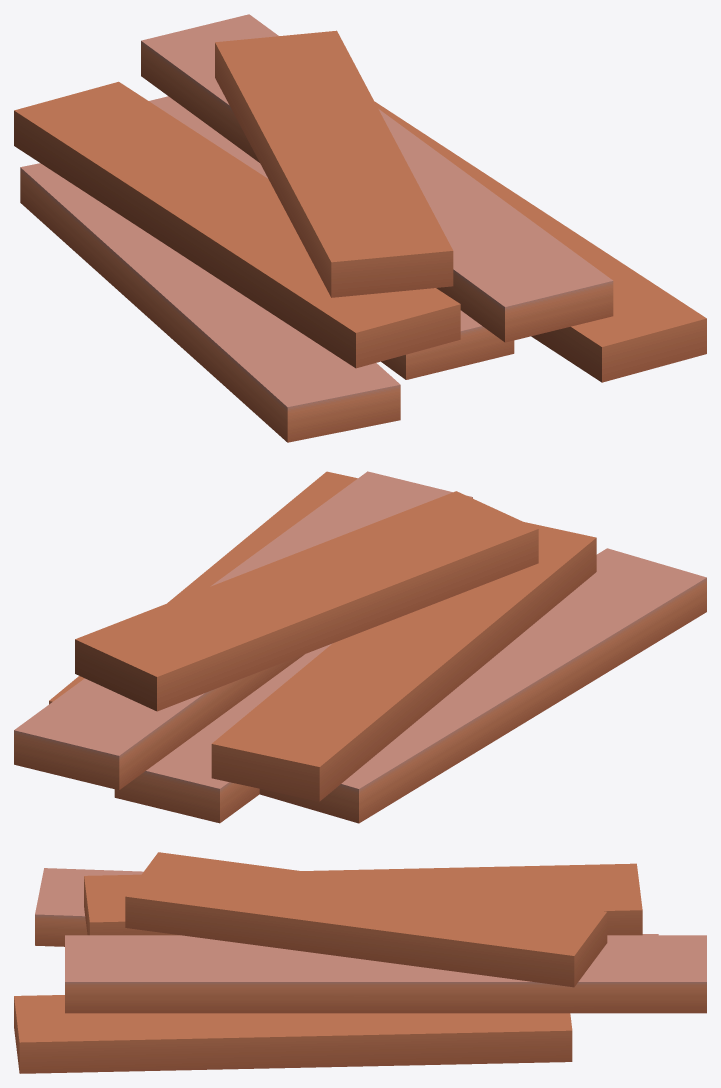
Rendered from resource-planks.glb.
3 renders of one model, top to bottom at view 1: azimuth 30°, elevation 25°; view 2: azimuth 150°, elevation 25°; view 3: azimuth 270°, elevation 25°, orthographic. The views are drawn at different scales.
Visible parts, largest first — view 1: resource-planks; view 2: resource-planks; view 3: resource-planks.
Part boxes in pixels (box(x1,y1,x2,y2)): resource-planks: box(14, 14, 706, 442); resource-planks: box(14, 471, 706, 823); resource-planks: box(14, 852, 706, 1073).
Bounding box in the file's own units: 0.3729 × 0.0936 × 0.626.
Materials: 1 (1 with a texture image).
